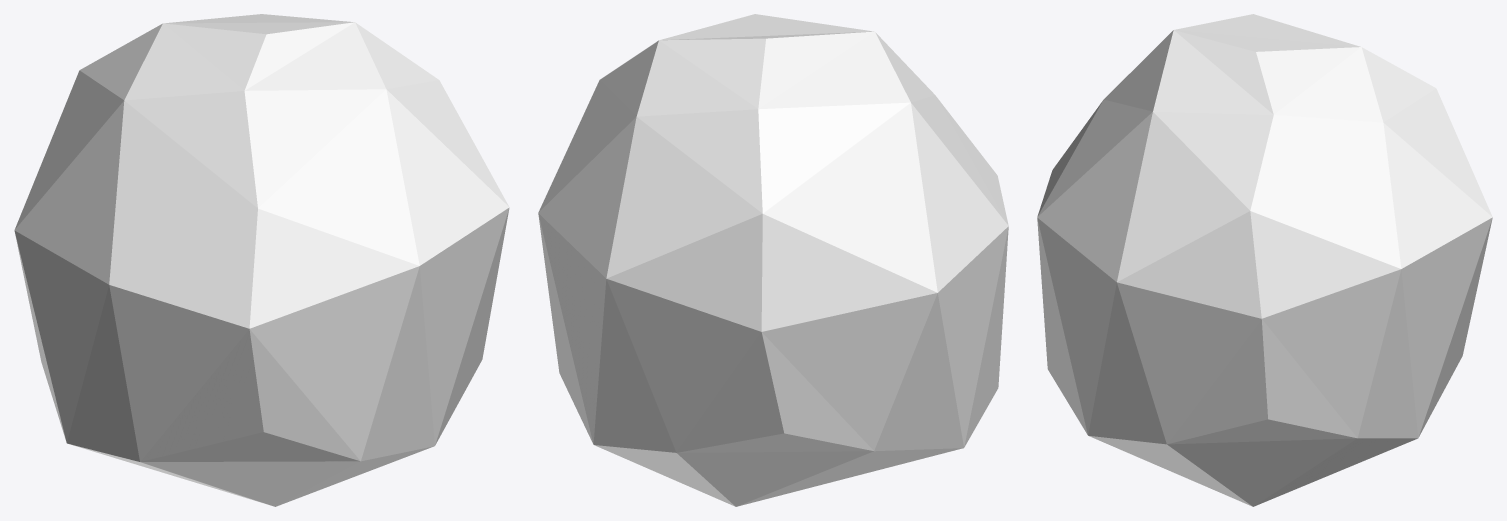
Rendered from cloud_05.fbx.
3 renders of one model, left to right at view 1: azimuth 30°, elevation 25°; view 2: azimuth 150°, elevation 25°; view 3: azimuth 270°, elevation 25°, orthographic. The views are drawn at different scales.
Parts seen in each view (by area): view 1: cloud_05; view 2: cloud_05; view 3: cloud_05.
Boxes of the visible parts, box(x1,y1,x2,y2) form: cloud_05: box(14, 14, 509, 506); cloud_05: box(538, 14, 1008, 506); cloud_05: box(1037, 14, 1492, 506).
Bounding box in the file's own units: 211 × 214 × 211.
Materials: 1 (1 with a texture image).
